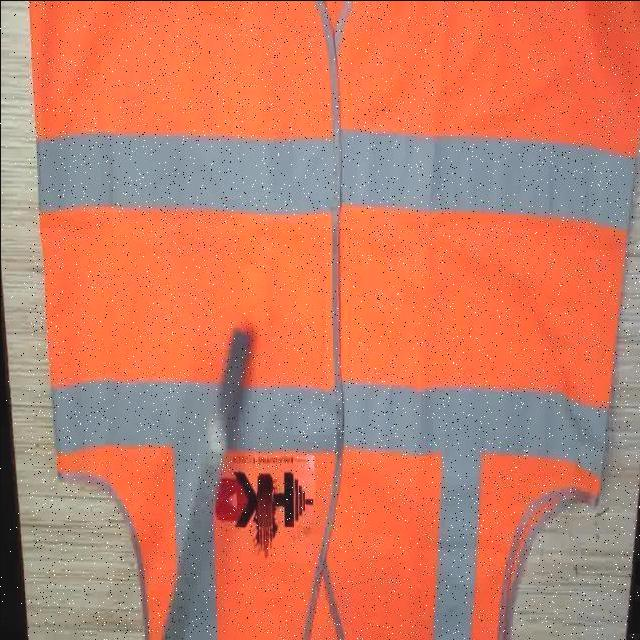Vest: (28, 0, 640, 640)
